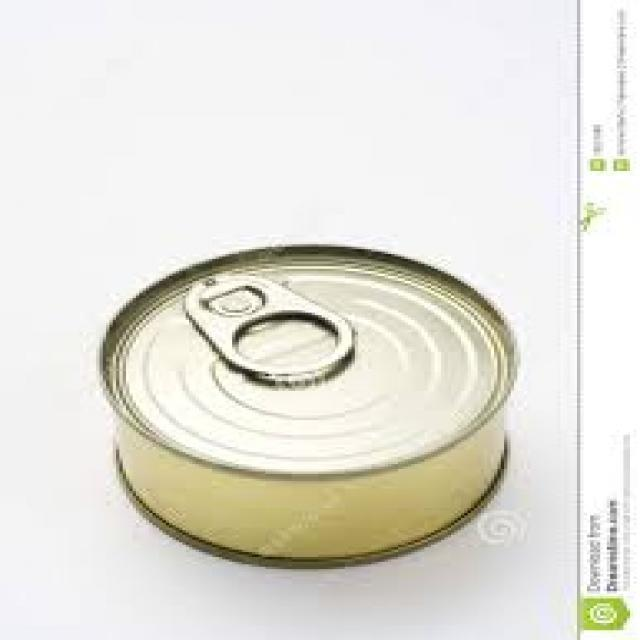recyclable: (101, 244, 517, 567)
